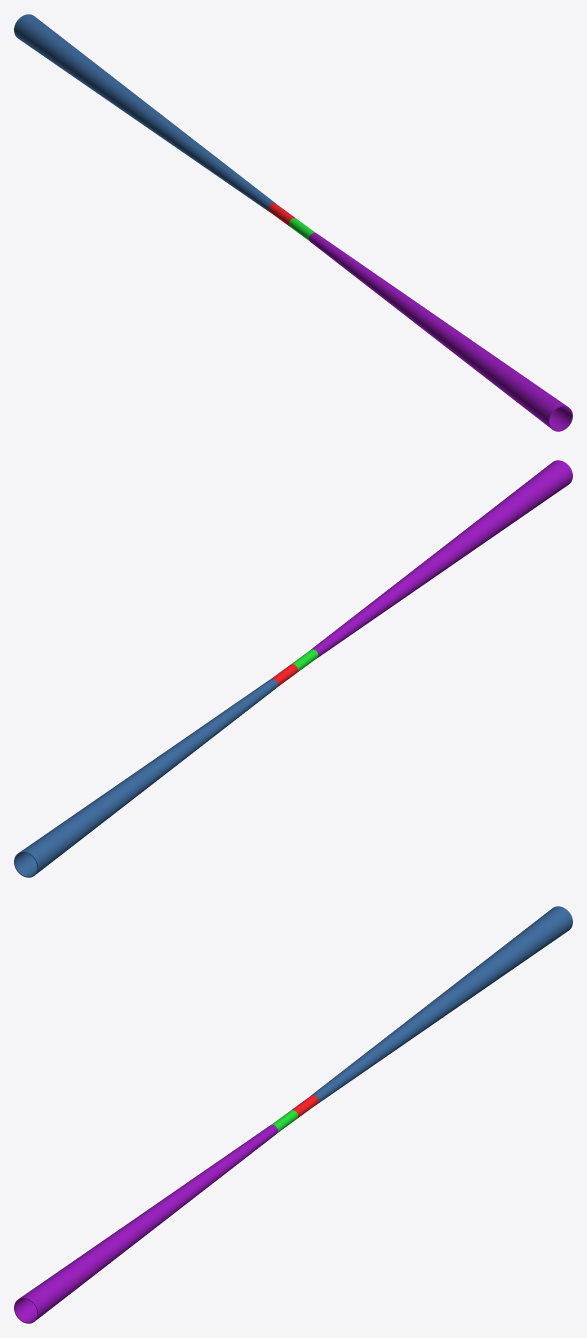
The model's file is IDEA_o1_v04.gltf.
3 renders of one model, top to bottom at view 1: azimuth 30°, elevation 25°; view 2: azimuth 150°, elevation 25°; view 3: azimuth 330°, elevation 25°, orthographic.
Visible parts, largest first — view 1: tube_AlBeMet162_wall_6, tube_AlBeMet162_wall2_7; view 2: tube_AlBeMet162_wall2_7, tube_AlBeMet162_wall_6; view 3: tube_AlBeMet162_wall_6, tube_AlBeMet162_wall2_7.
Boxes of the visible parts, x1,y1,x2,y2 form: tube_AlBeMet162_wall_6: (309,232,572,431); tube_AlBeMet162_wall2_7: (14,14,275,211); tube_AlBeMet162_wall2_7: (14,678,277,877); tube_AlBeMet162_wall_6: (311,460,572,657); tube_AlBeMet162_wall_6: (14,1124,277,1323); tube_AlBeMet162_wall2_7: (311,906,572,1103).
Bounding box in the file's own units: 6.18 × 6.15 × 238.
